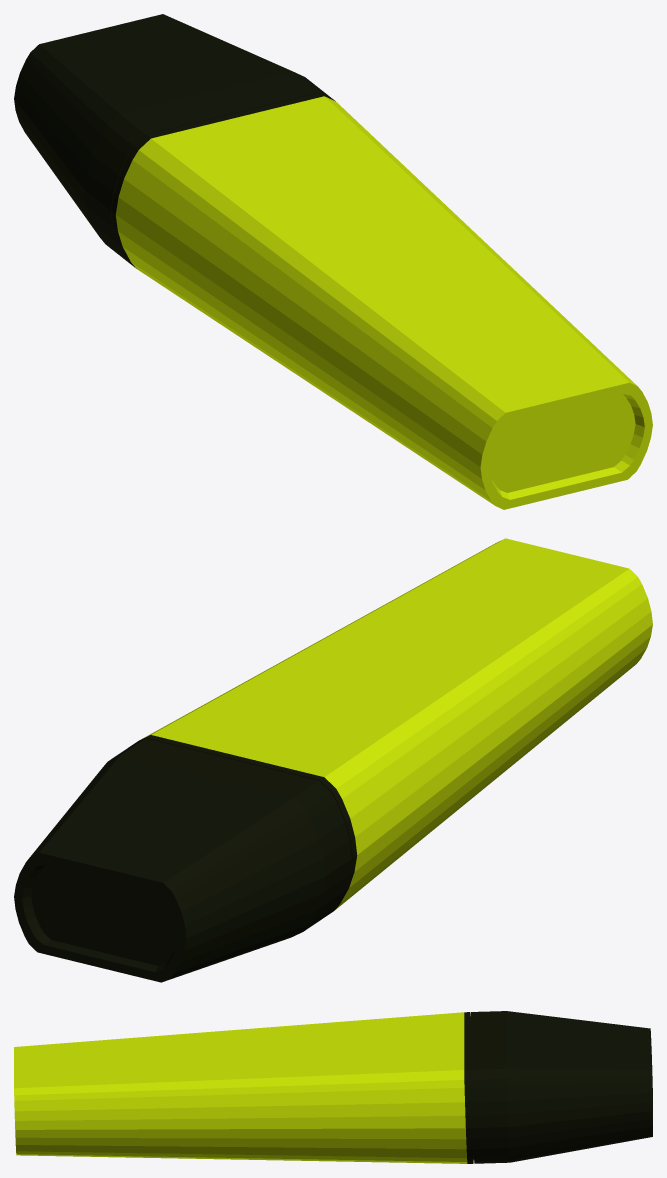
The model's file is sweethome3d-blendswap-cc-0-text-marker-53.glb.
3 views of the same model, one above another, from view 1: azimuth 30°, elevation 25°; view 2: azimuth 150°, elevation 25°; view 3: azimuth 270°, elevation 25° (orthographic). The views are drawn at different scales.
Parts seen in each view (by area): view 1: Cube_Cube.001, cap_Cube.004; view 2: Cube_Cube.001, cap_Cube.004; view 3: Cube_Cube.001, cap_Cube.004.
Part boxes in pixels (left/top/right/bottom): Cube_Cube.001: left=111, top=92, right=652, bottom=509; cap_Cube.004: left=14, top=14, right=330, bottom=264; Cube_Cube.001: left=134, top=538, right=652, bottom=913; cap_Cube.004: left=14, top=738, right=351, bottom=982; Cube_Cube.001: left=14, top=1012, right=473, bottom=1163; cap_Cube.004: left=471, top=1011, right=652, bottom=1163.
Bounding box in the file's own units: 3.08 × 1.7 × 10.35.
